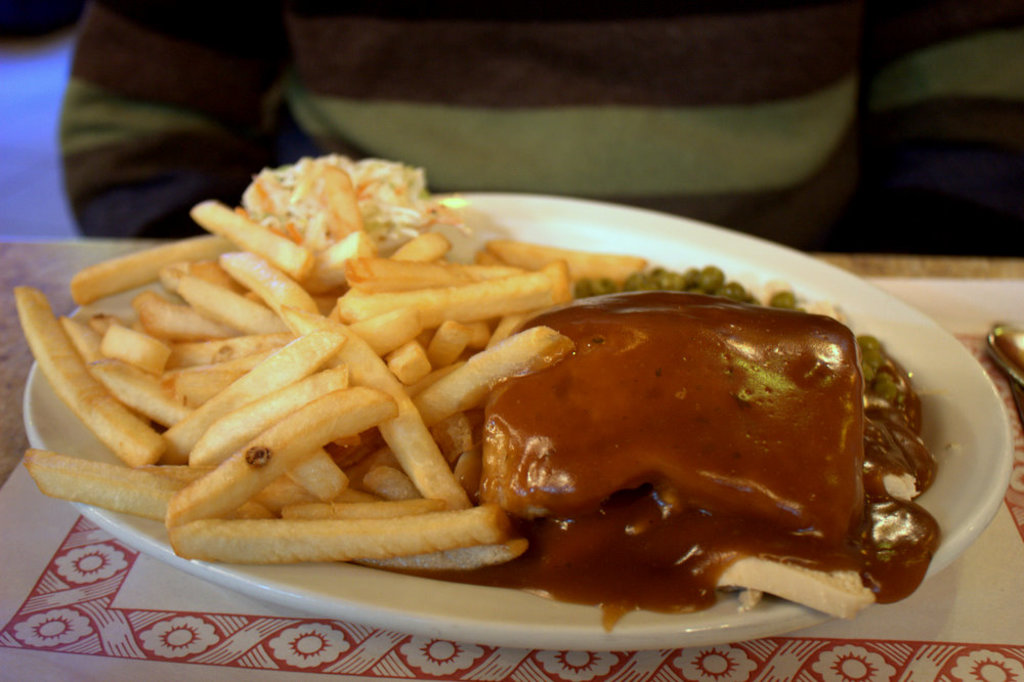French fries: (15, 153, 643, 577)
